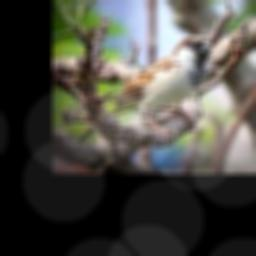Sparrow: (107, 35, 212, 136)
